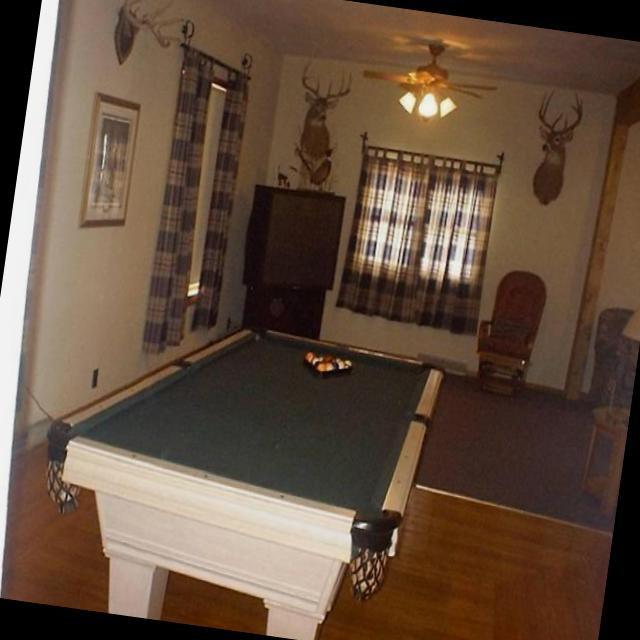chair: (470, 265, 550, 405)
curtains: (334, 142, 502, 337)
pots: (526, 85, 588, 208)
rugs: (410, 364, 633, 535)
sofa: (585, 302, 640, 415)
table: (25, 297, 449, 640)
table-lamp: (608, 279, 640, 430)
television: (240, 180, 348, 298)
